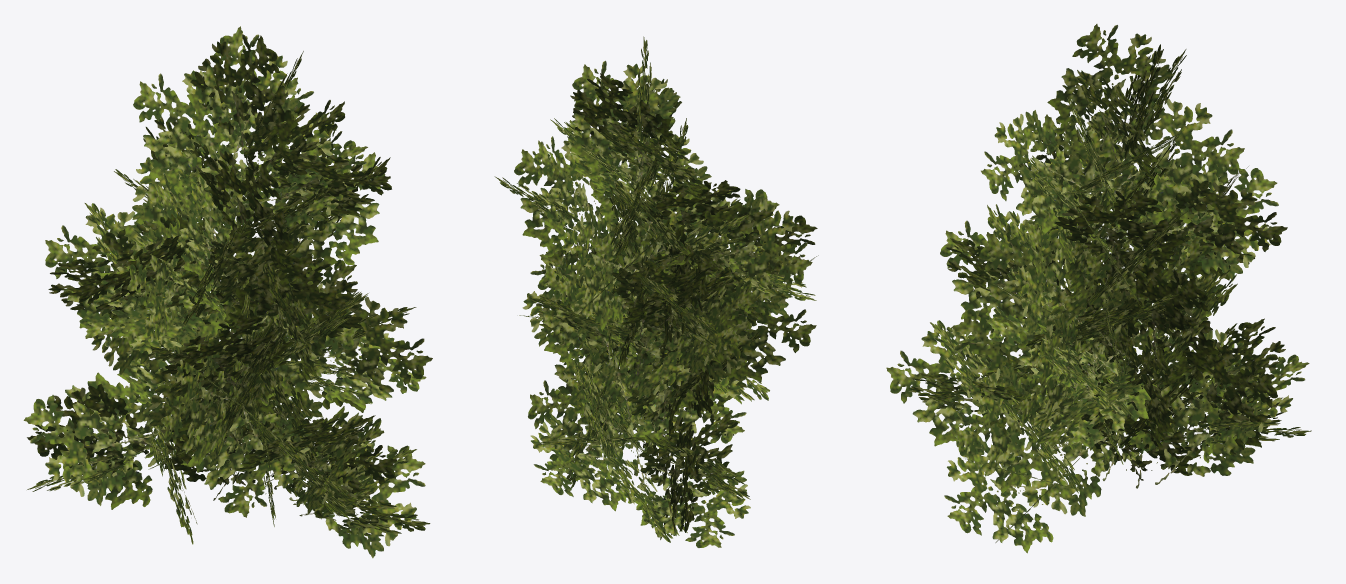
Rendered from busch_2.glb.
3 renders of one model, left to right at view 1: azimuth 30°, elevation 25°; view 2: azimuth 150°, elevation 25°; view 3: azimuth 270°, elevation 25°, orthographic. The views are drawn at different scales.
Parts seen in each view (by area): view 1: laub; view 2: laub; view 3: laub.
Part boxes in pixels (x1=…): laub: x1=23, y1=26, x2=432, y2=558; laub: x1=494, y1=36, x2=818, y2=547; laub: x1=886, y1=24, x2=1311, y2=553.
Bounding box in the file's own units: 2.69 × 3.6 × 3.02.
Materials: 1 (1 with a texture image).
